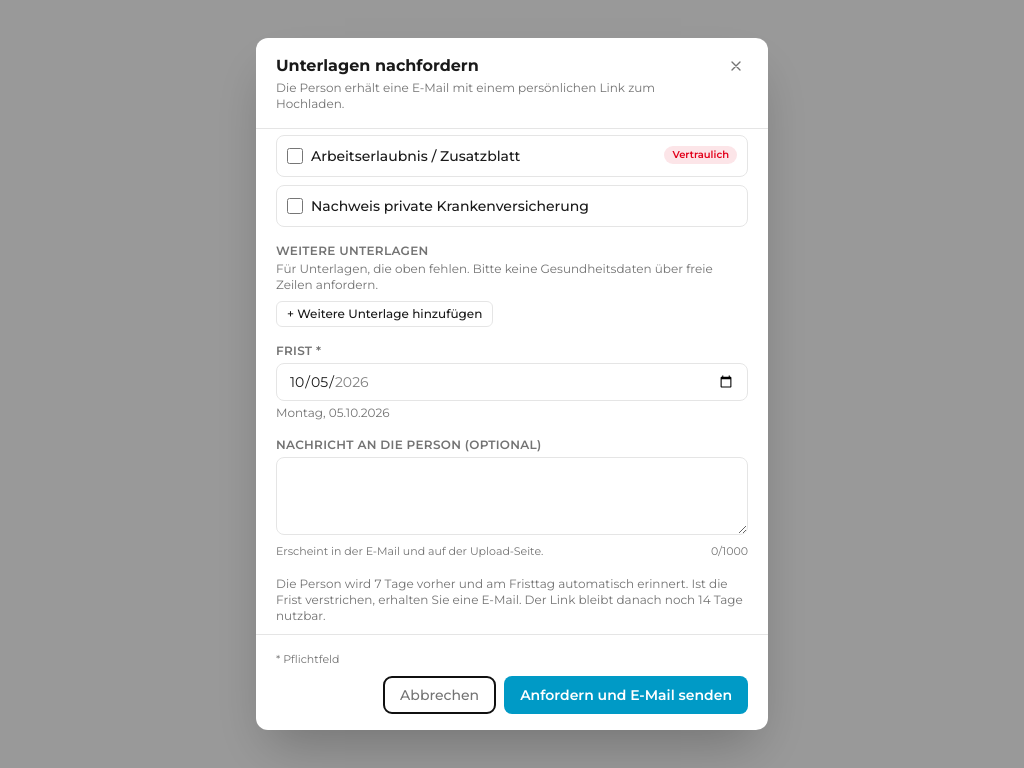
Test: Frist › außerhalb der Grenzen gesperrt, mit Grund
(page scrolled)
Type "2026-09-21" into the date field labelled "Frist *" at (512, 382), box [276,363,748,401]
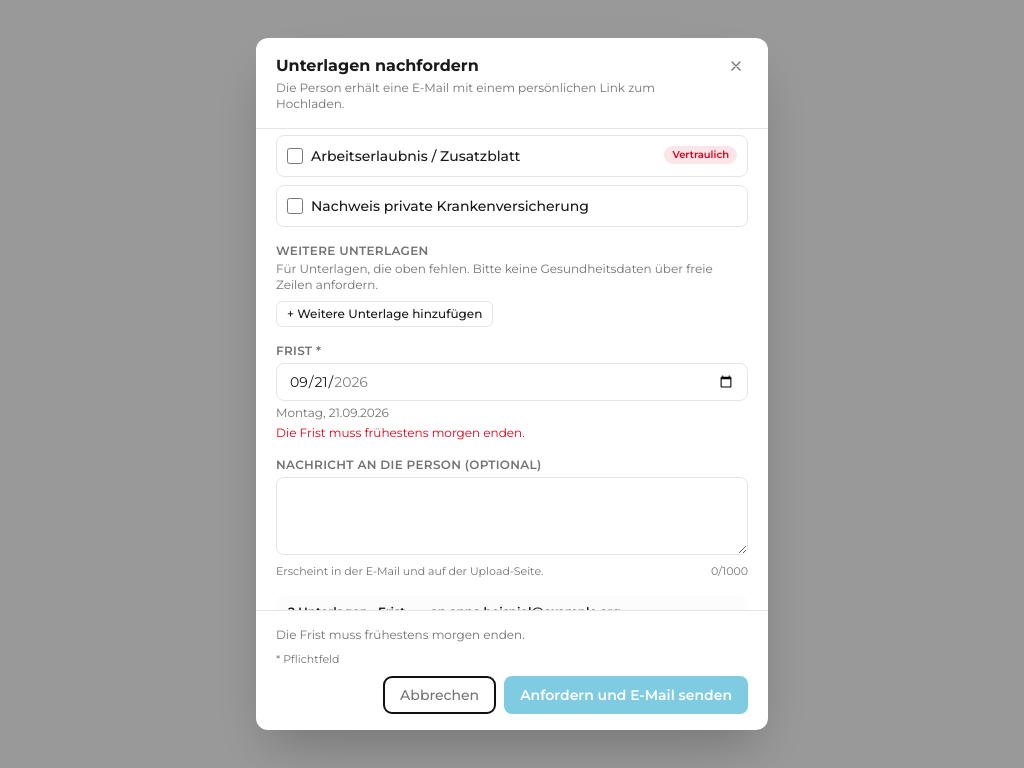
Now the button "Anfordern und E-Mail senden" is disabled, box [504,676,748,714]
Now the text "Die Frist muss frühestens morgen enden." below "Montag, 21.09.2026" is shown, box [276,425,525,440]
Type "2026-12-21" into the date field labelled "Frist *" at (512, 382), box [276,363,748,401]
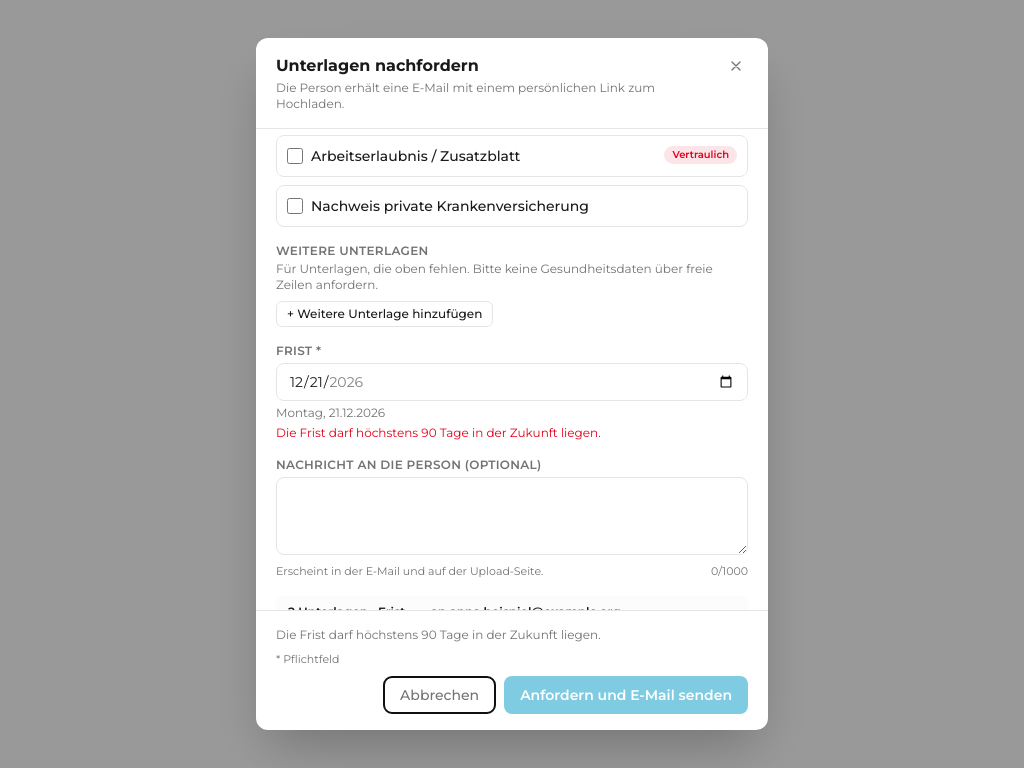
Now the button "Anfordern und E-Mail senden" is disabled, box [504,676,748,714]
Type "2026-12-20" into the date field labelled "Frist *" at (512, 382), box [276,363,748,401]
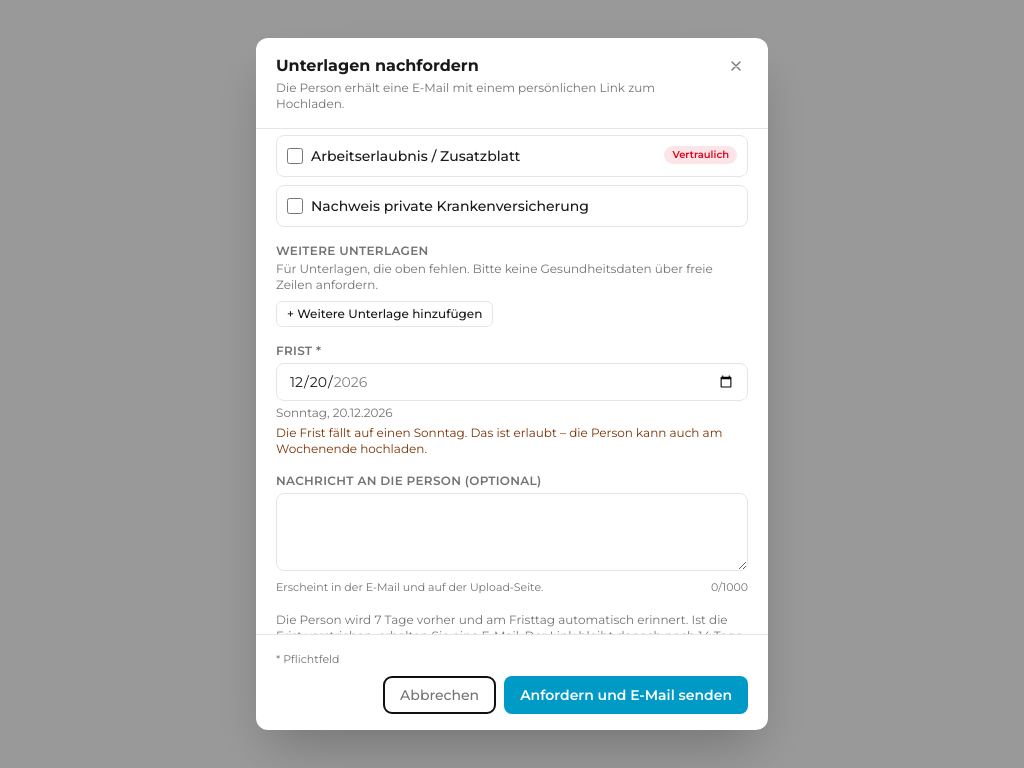
Now the button "Anfordern und E-Mail senden" is enabled, box [504,676,748,714]
Clear the date field labelled "Frist *" at (512, 382), box [276,363,748,401]
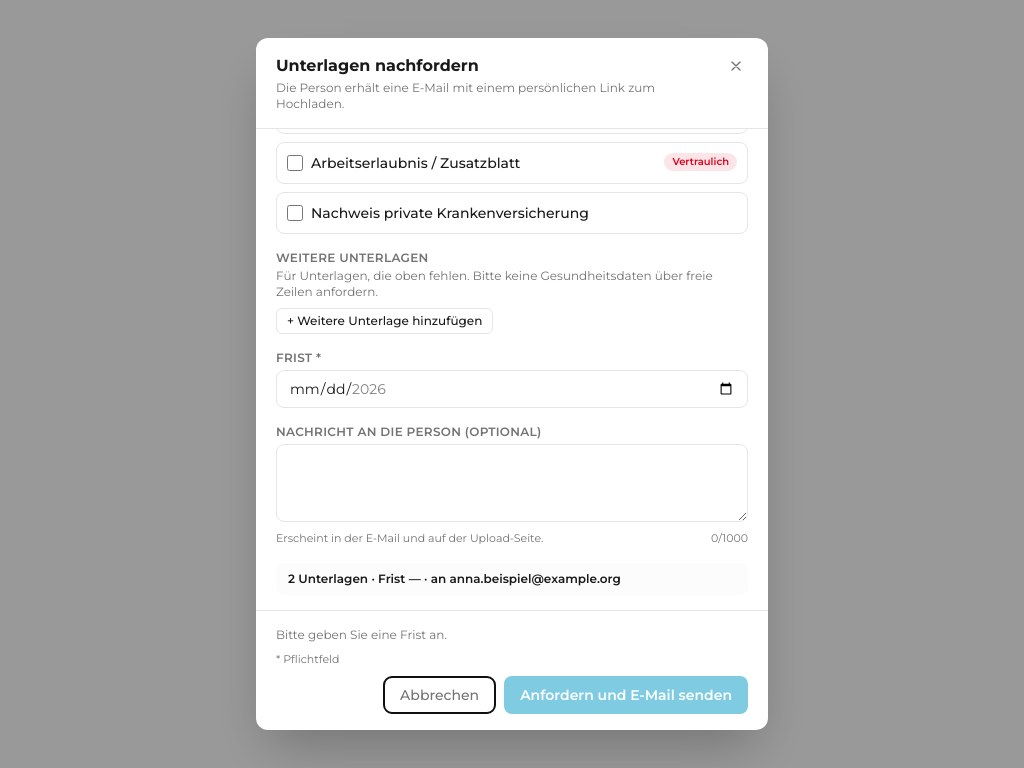
Now the button "Anfordern und E-Mail senden" is disabled, box [504,676,748,714]
Now the text "Bitte geben Sie eine Frist an." is shown, box [276,627,447,642]
